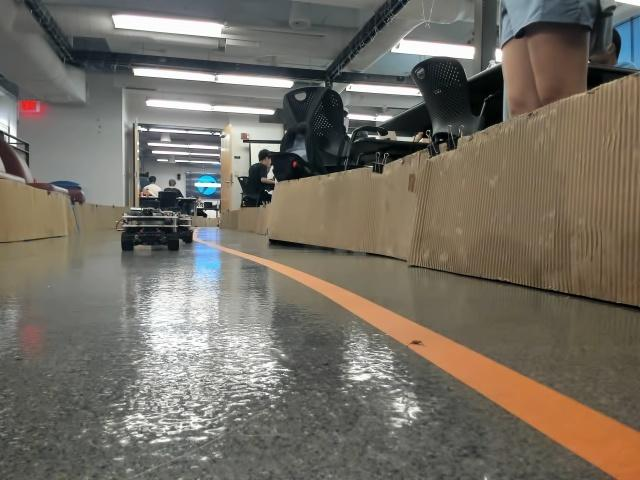Car: (120, 201, 177, 250)
